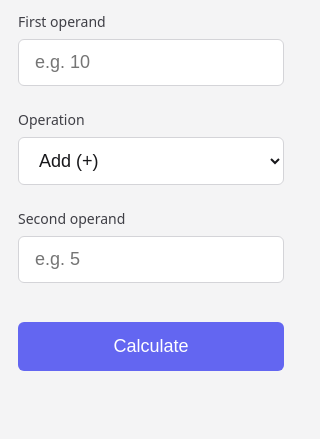
Scenario: CalculatorForm › shows validation error for non-numeric input
This screenshot has width=320, height=439.
Type "abc" into the field labelled "First operand".
click(151, 62); type("abc")  # box [18, 39, 284, 86]
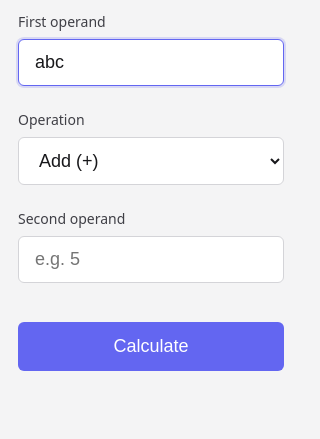
Type "5" into the field labelled "Second operand".
click(151, 260); type("5")  # box [18, 236, 284, 283]
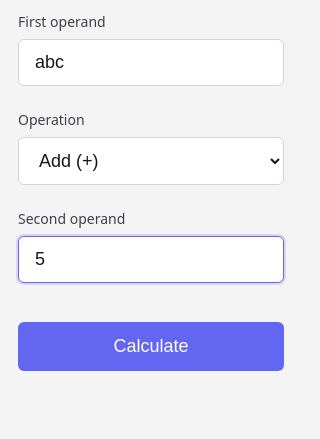
Click the button "Calculate".
click(151, 347)  # box [18, 322, 284, 371]
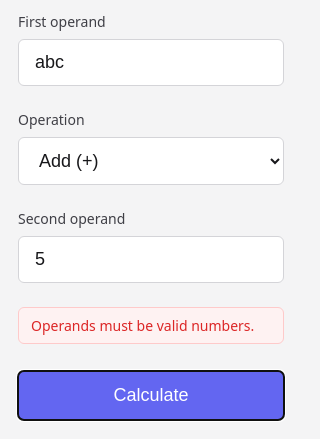
expect the message reads "Operands must be valid numbers.": met, box [31, 316, 254, 335]
